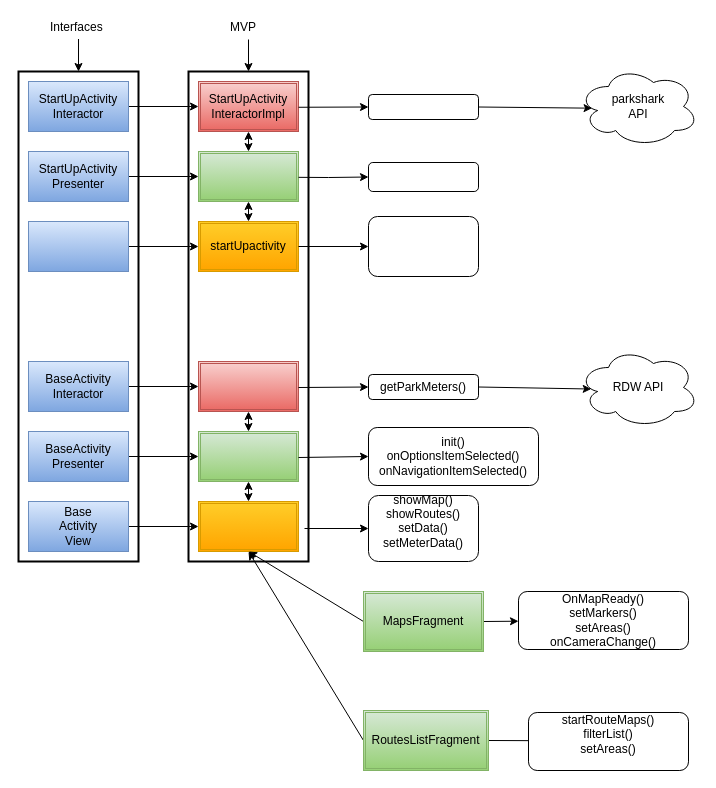
The diagram is 716 pixels wide and 788 high, and some of its shapes have lost their labels. The centre of each missing label's shape, as x and y in pixels:
BaseActivity InteractorImpl: pixel 248 386
BaseActivity PresenterImpl: pixel 248 456
BaseActivity startUpactivity: pixel 248 526
getRoutes(): pixel 423 107
gpsCheck() gpsAlert() startBaseActivity() LocationServices: pixel 423 246
onClick() getData(): pixel 423 177
StartUpActivity View: pixel 78 246
StartupActivty PresenterImpl: pixel 248 176
